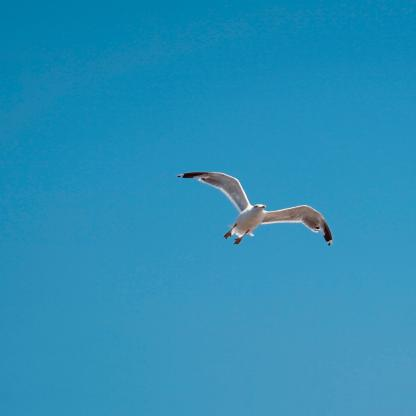bird: (177, 172, 334, 246)
